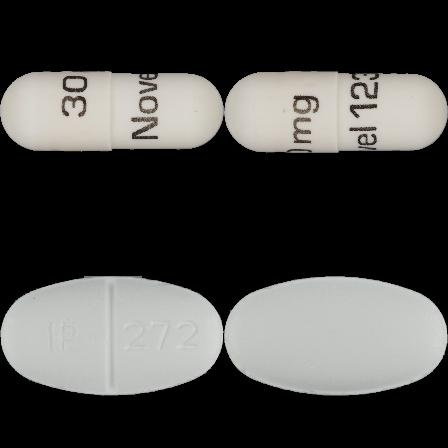35356-663: (0, 0, 224, 224)
